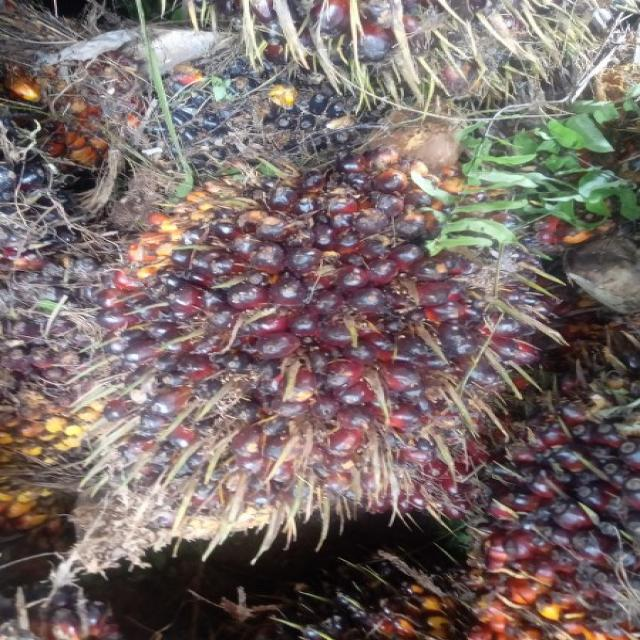fraksi 1: (66, 163, 503, 532)
